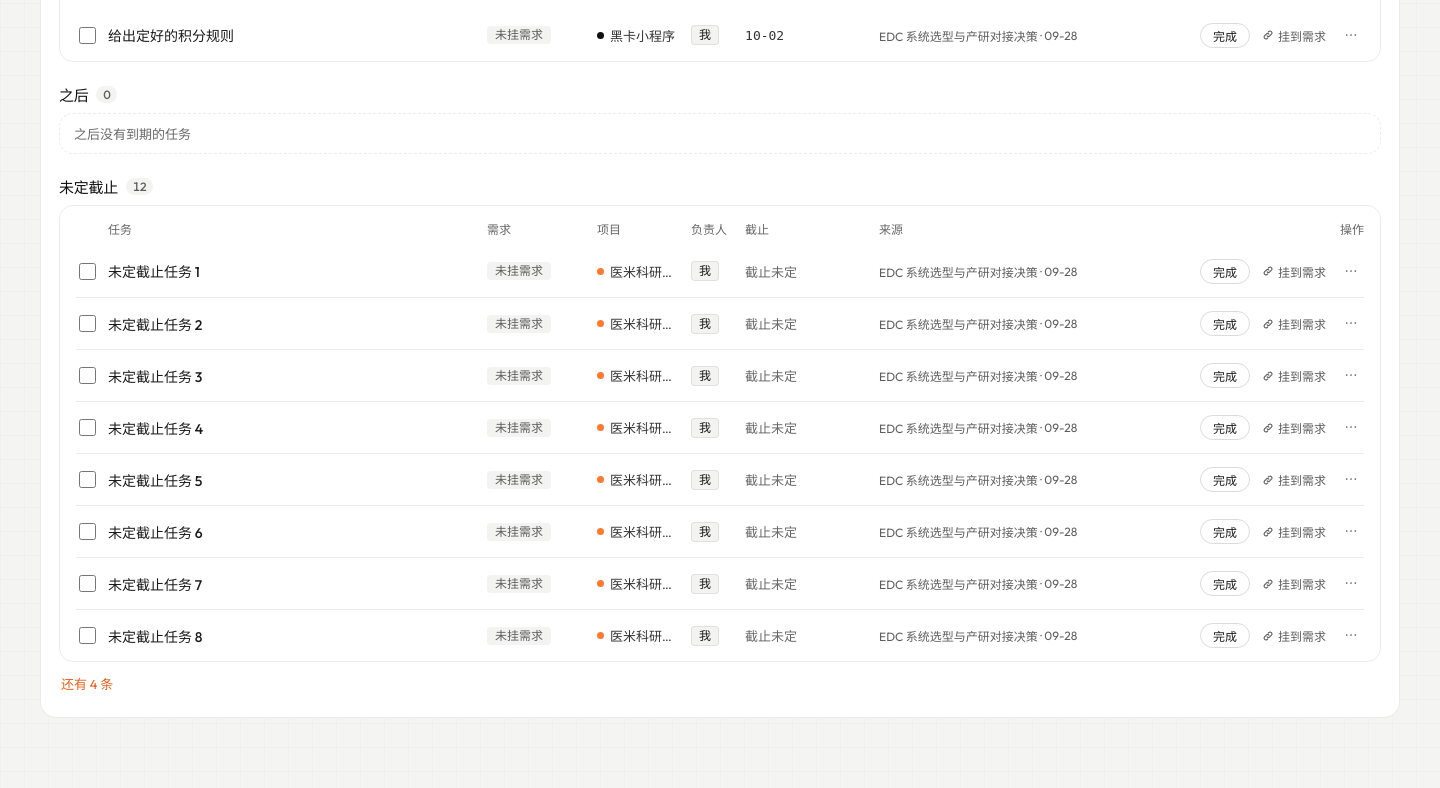
待办：未定截止折叠 › 默认显示前 8 条，其余折成「还有 N 条」，点开就地展开，展开后可收起
(page scrolled)
expect the button "未定截止任务 1" is shown: met, box [108,261,200,281]
expect the text "未定截止任务 9" is not shown: met
Click the button "还有 4 条" at (87, 684), box [59,670,115,697]
(page scrolled)
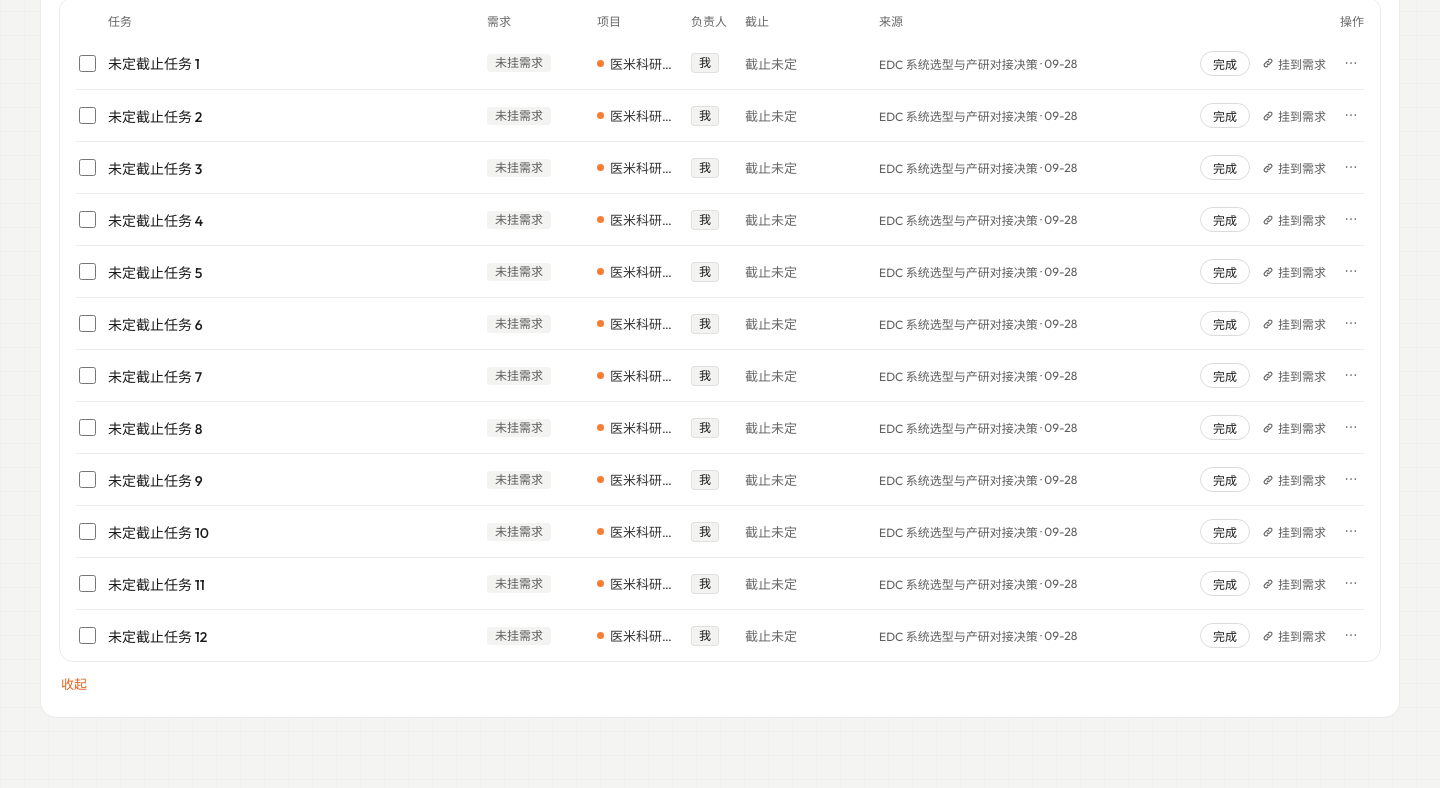
expect the button "未定截止任务 12" is shown: met, box [108,626,207,646]
Click the button "收起" at (74, 684), box [59,670,89,697]
(page scrolled)
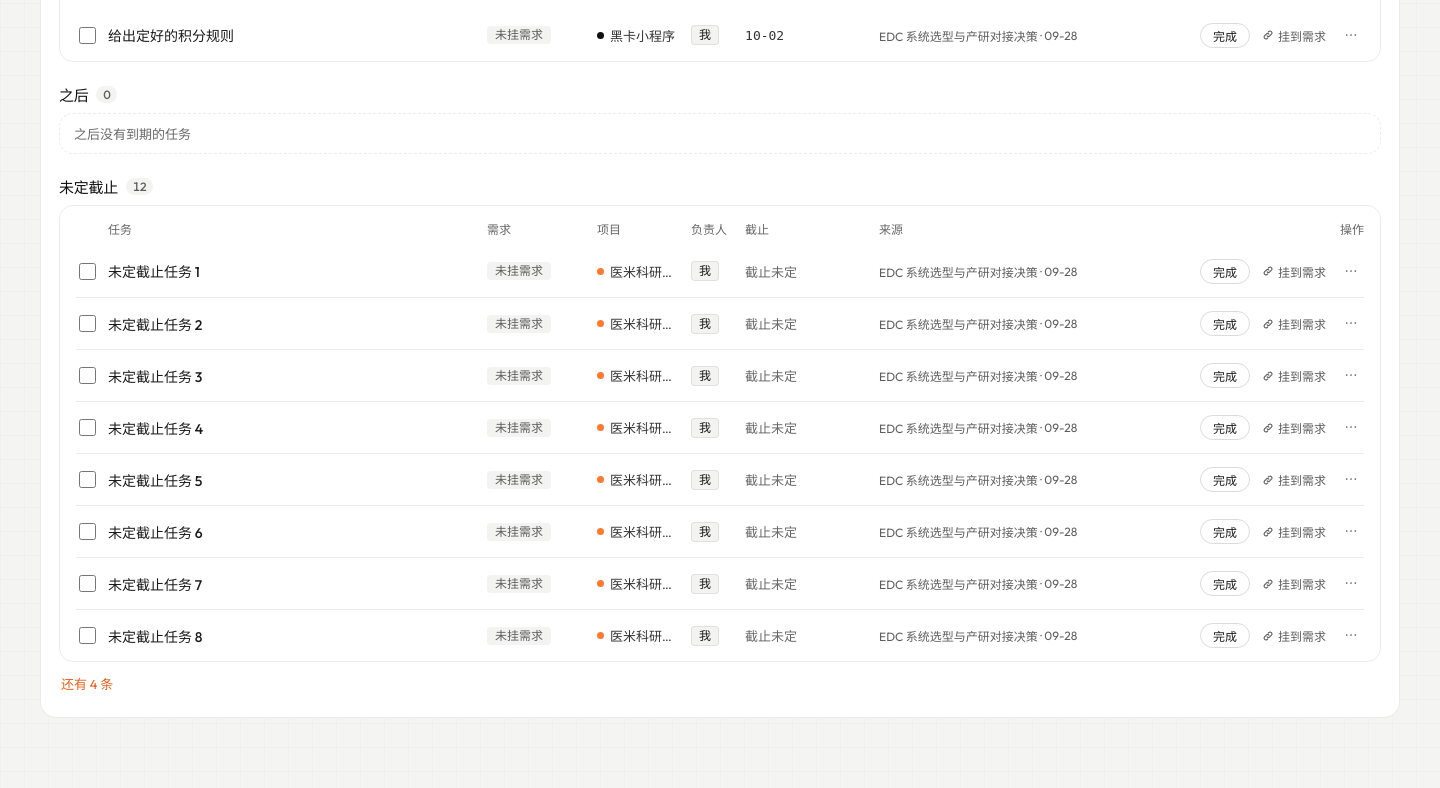
expect the button "还有 4 条" is shown: met, box [59,670,115,697]
